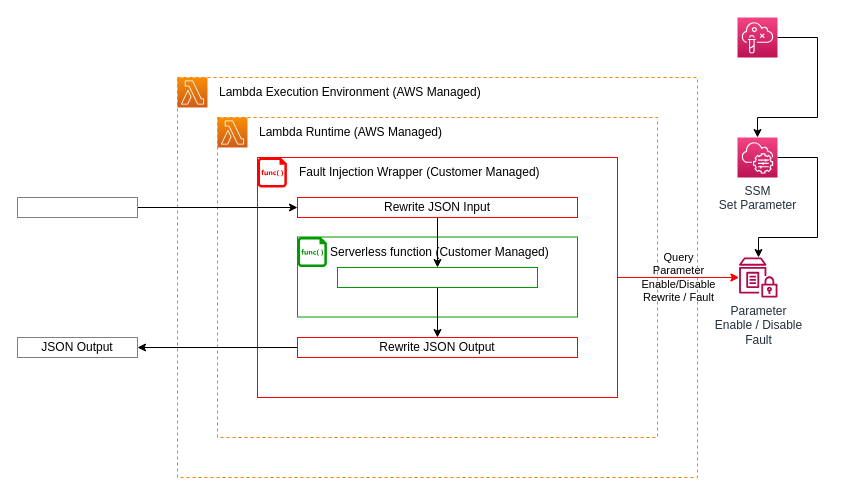
Image size: 843x495. Some labels were removed from this diagram. The centre of each missing label's shape, as x and y in pixels:
FIS Set Parameter: point 757,37
JSON Input: point 77,207
Transform: point 437,277
